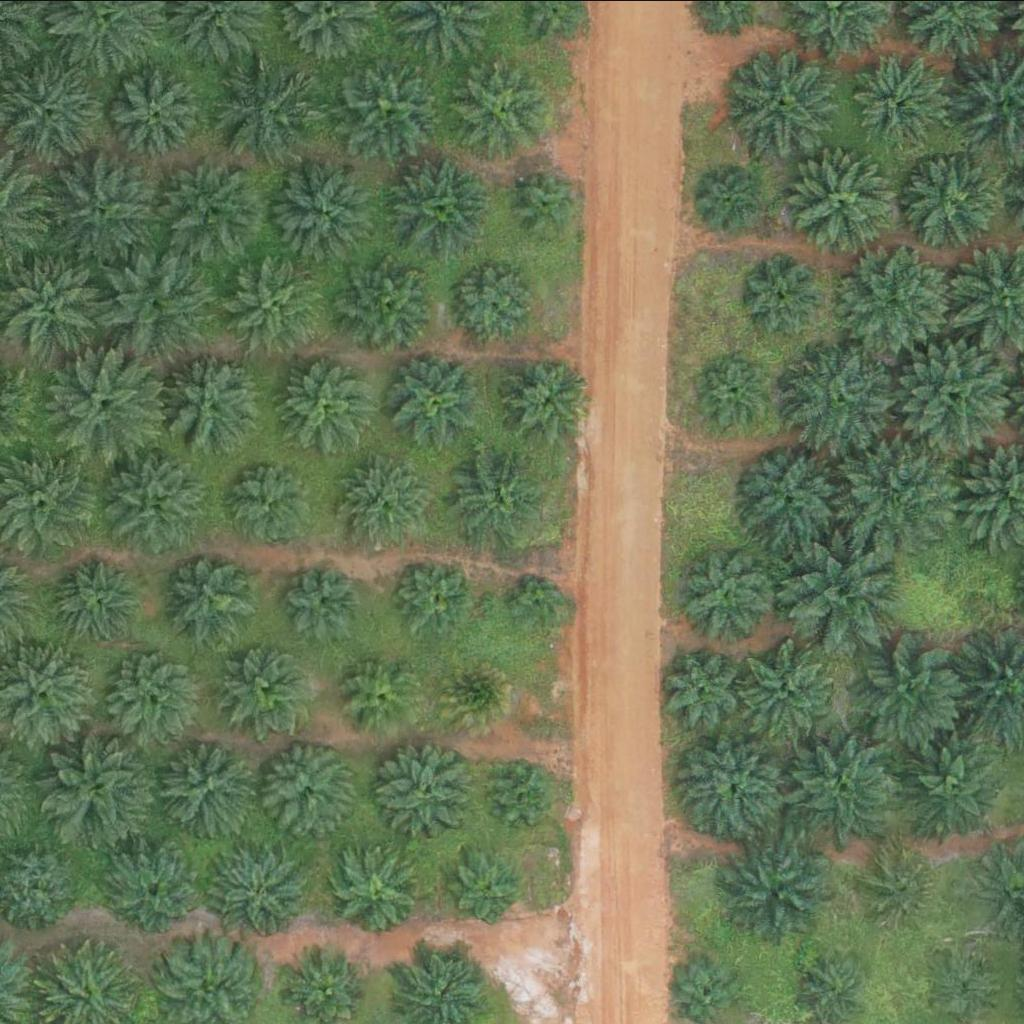Kelapa_Sawit: (716, 830, 842, 955), (777, 723, 903, 848), (847, 628, 973, 753), (780, 531, 906, 656), (839, 428, 965, 553), (42, 153, 155, 266), (839, 242, 952, 355), (895, 340, 1009, 452), (98, 245, 211, 357), (47, 347, 160, 459), (49, 726, 162, 838), (899, 727, 1012, 839), (780, 345, 893, 457), (213, 59, 314, 159), (339, 57, 440, 157), (451, 57, 552, 157), (163, 151, 264, 251), (271, 157, 372, 257), (393, 156, 494, 256), (220, 250, 321, 350), (337, 251, 438, 351), (162, 352, 263, 452), (278, 353, 379, 453), (106, 449, 207, 549), (680, 738, 781, 838), (789, 150, 890, 250), (904, 151, 1005, 251), (730, 48, 831, 148), (851, 54, 952, 154), (495, 350, 595, 450), (445, 444, 545, 544), (102, 644, 202, 744), (259, 734, 359, 834), (377, 738, 477, 838), (737, 639, 837, 739), (743, 449, 843, 549), (451, 257, 539, 345), (222, 643, 310, 731), (162, 740, 250, 828), (115, 70, 203, 157), (391, 353, 479, 440), (222, 459, 310, 546), (334, 457, 422, 544), (52, 560, 140, 647), (171, 554, 259, 641), (111, 838, 199, 925), (217, 847, 305, 934), (336, 841, 424, 928), (658, 646, 746, 733), (684, 552, 772, 639), (347, 656, 423, 731), (286, 566, 362, 641), (701, 353, 777, 428), (510, 164, 586, 239), (395, 559, 471, 634), (436, 655, 512, 730), (485, 757, 561, 832), (864, 849, 939, 924), (745, 256, 820, 331), (444, 847, 519, 922), (930, 946, 1005, 1021), (699, 167, 762, 230), (508, 570, 571, 632)
